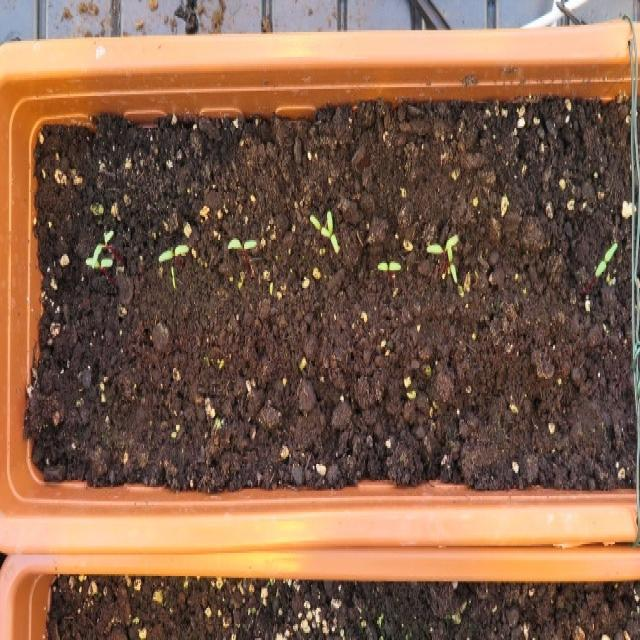crop: (592, 236, 619, 278), (153, 238, 193, 263), (221, 233, 262, 252), (372, 254, 402, 272)
